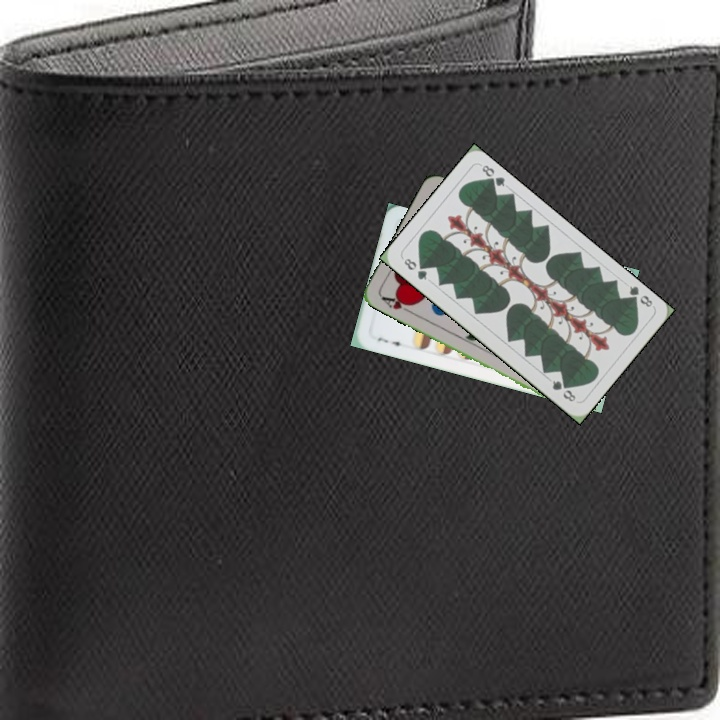E7: (374, 333, 407, 350)
G8: (623, 281, 655, 310), (400, 254, 430, 283)
HA: (377, 292, 415, 316)
